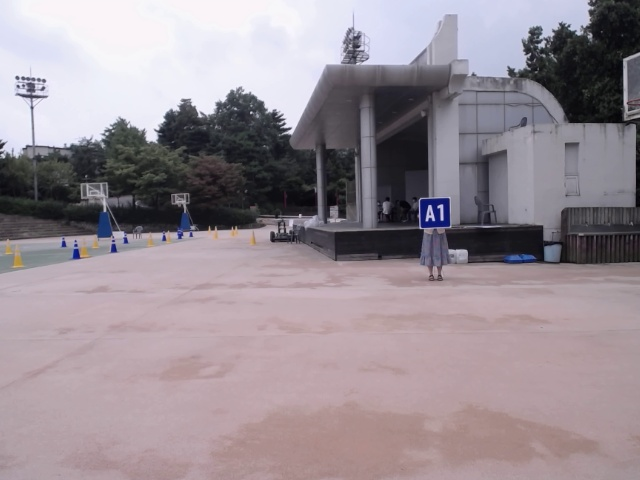delivery_a1: (419, 198, 451, 229)
